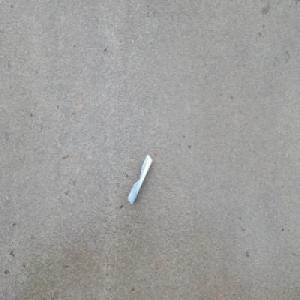ClampPart: (127, 153, 153, 206)
